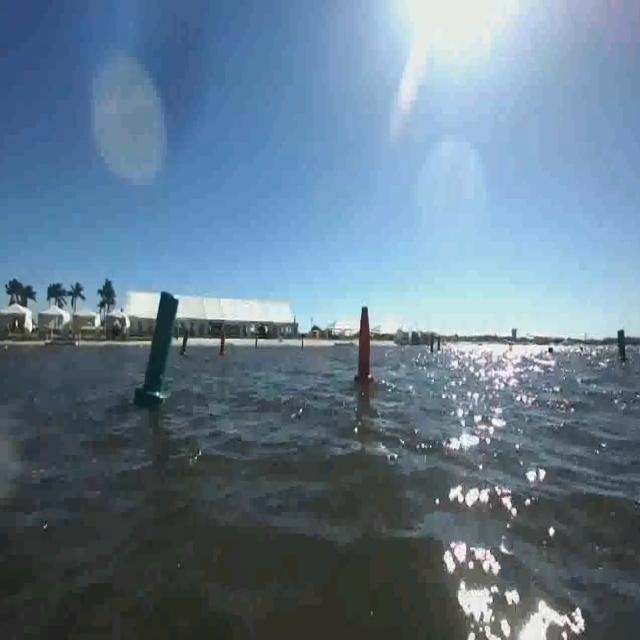green-column-buoy: (136, 292, 182, 406), (616, 327, 630, 363), (178, 327, 190, 357)
red-column-buoy: (354, 303, 374, 387), (218, 334, 228, 358)
